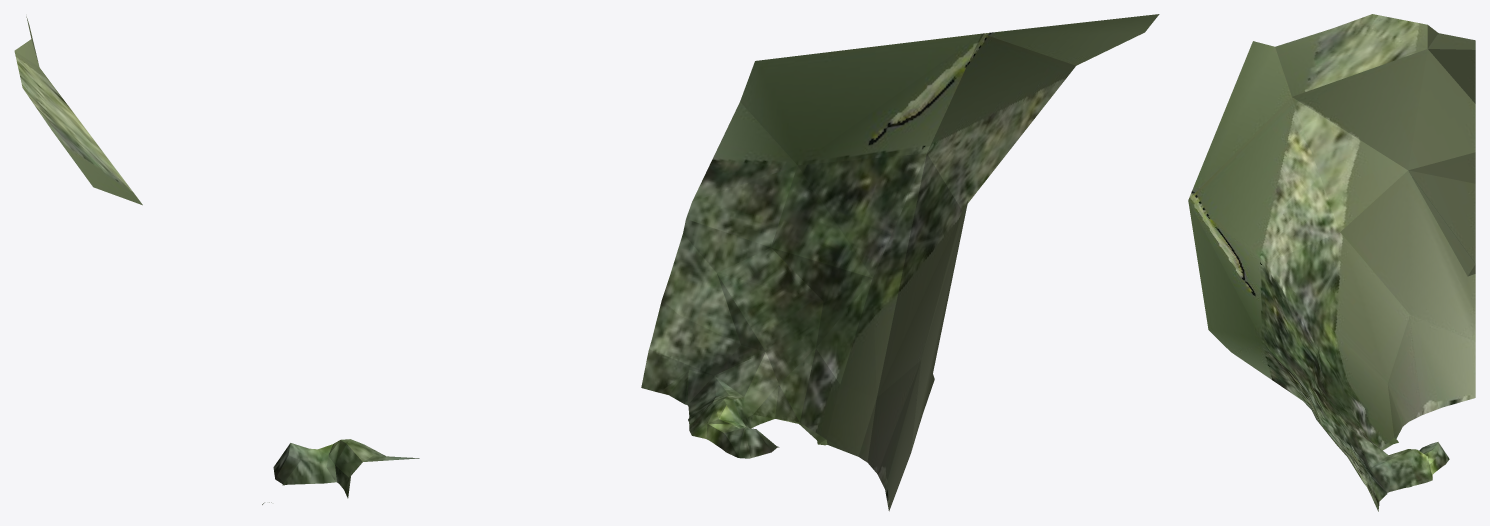
The picture shows the model from 3 angles, left to right: view 1: azimuth 30°, elevation 25°; view 2: azimuth 150°, elevation 25°; view 3: azimuth 270°, elevation 25°; orthographic projection. The views are drawn at different scales.
Bounding box in the file's own units: 2.95 × 2.95 × 2.26.
3 materials, 3 textured.
